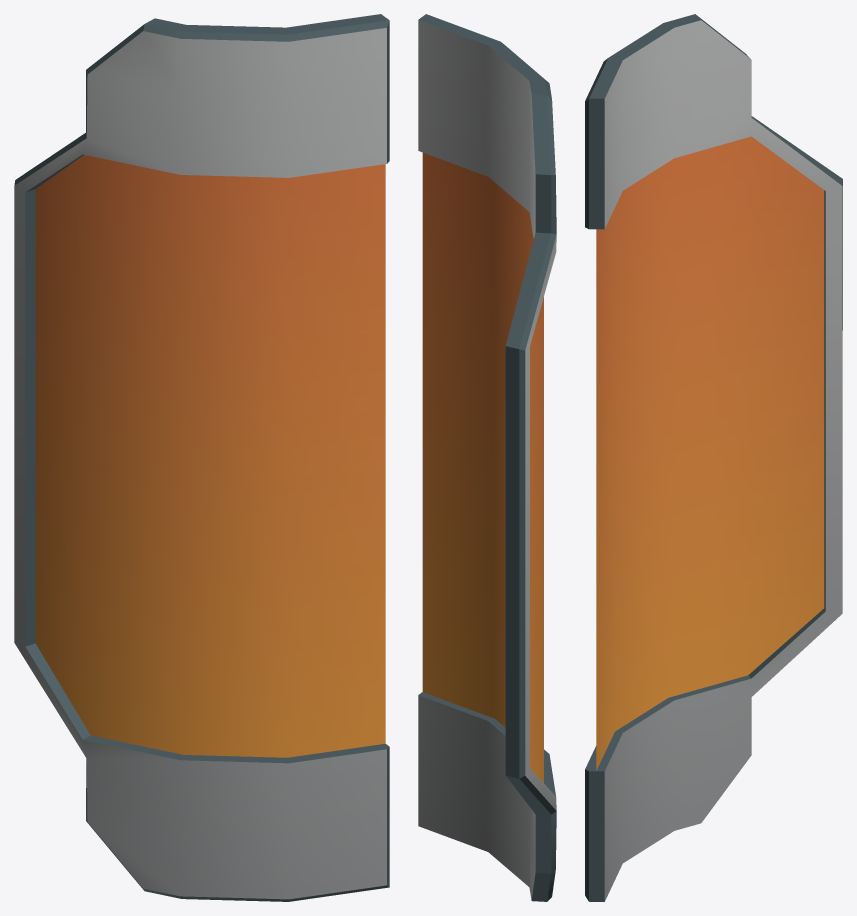
The model's file is Capsule_013_door_002.fbx.
The picture shows the model from 3 angles, left to right: view 1: azimuth 30°, elevation 25°; view 2: azimuth 150°, elevation 25°; view 3: azimuth 270°, elevation 25°; orthographic projection. The views are drawn at different scales.
Parts seen in each view (by area): view 1: Сapsule_013_door_002; view 2: Сapsule_013_door_002; view 3: Сapsule_013_door_002.
Part boxes in pixels (bbox=[...]): Сapsule_013_door_002: bbox=[14, 14, 389, 901]; Сapsule_013_door_002: bbox=[418, 14, 556, 901]; Сapsule_013_door_002: bbox=[585, 14, 842, 901].
Bounding box in the file's own units: 62.37 × 62.47 × 215.
